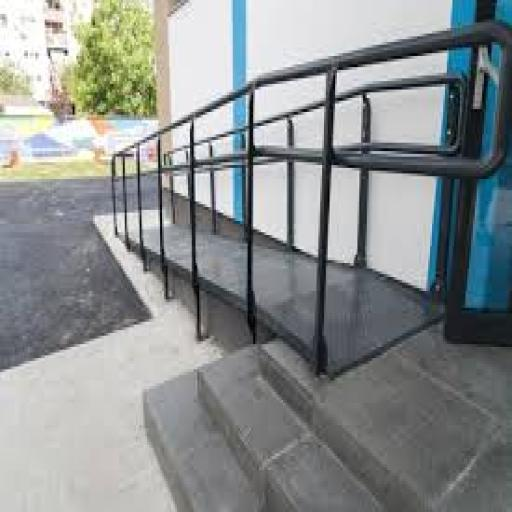ramp: (115, 226, 365, 334)
stairs: (142, 338, 419, 512)
